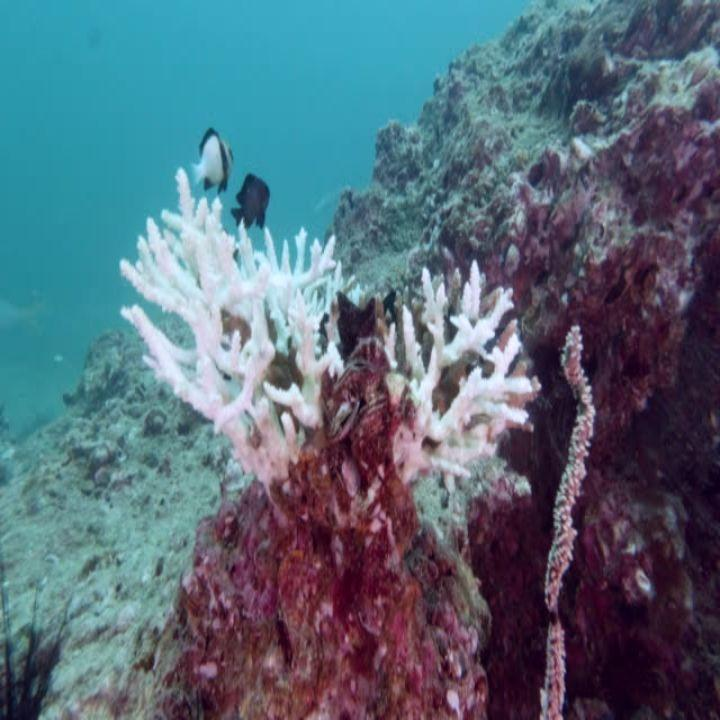Bleached disease: (83, 178, 359, 499), (391, 264, 549, 576)
